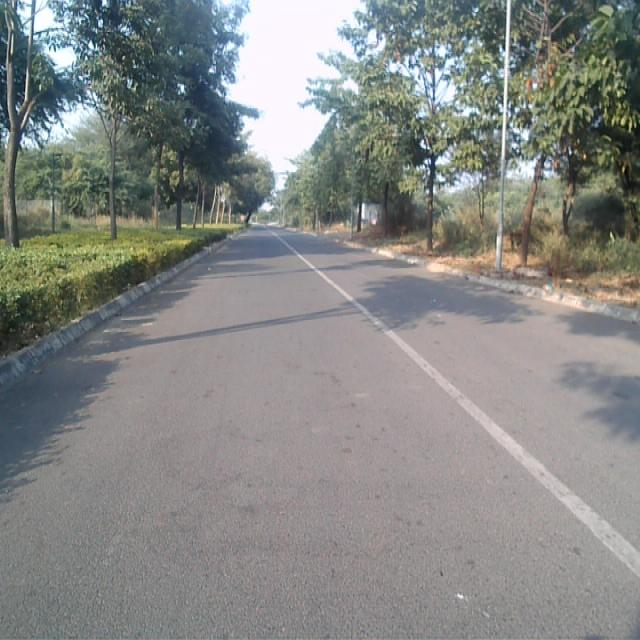lane: (0, 228, 640, 640)
